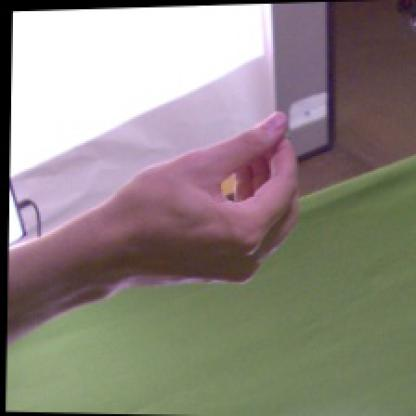Hand: (112, 114, 302, 284)
